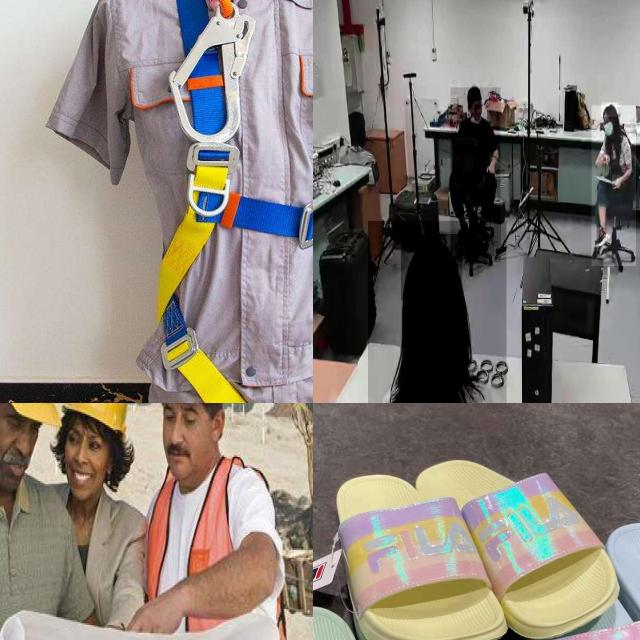Harness: (152, 0, 313, 403)
Sandals: (318, 430, 629, 640), (313, 571, 588, 640)
face_mask: (601, 118, 616, 144)
face_nomask: (159, 403, 213, 467), (0, 410, 45, 483), (60, 427, 111, 489), (468, 102, 482, 120)
hand_noglove: (612, 174, 622, 188), (600, 152, 610, 166), (485, 162, 495, 175)
head_helmet: (58, 403, 130, 434)
head_nohelmet: (401, 234, 463, 302), (465, 85, 482, 102), (602, 102, 618, 118)
person: (139, 403, 303, 640), (368, 220, 507, 403), (0, 403, 80, 640), (451, 88, 501, 262), (592, 105, 636, 267)
shoes: (594, 224, 614, 248)
vest: (142, 457, 269, 640)
